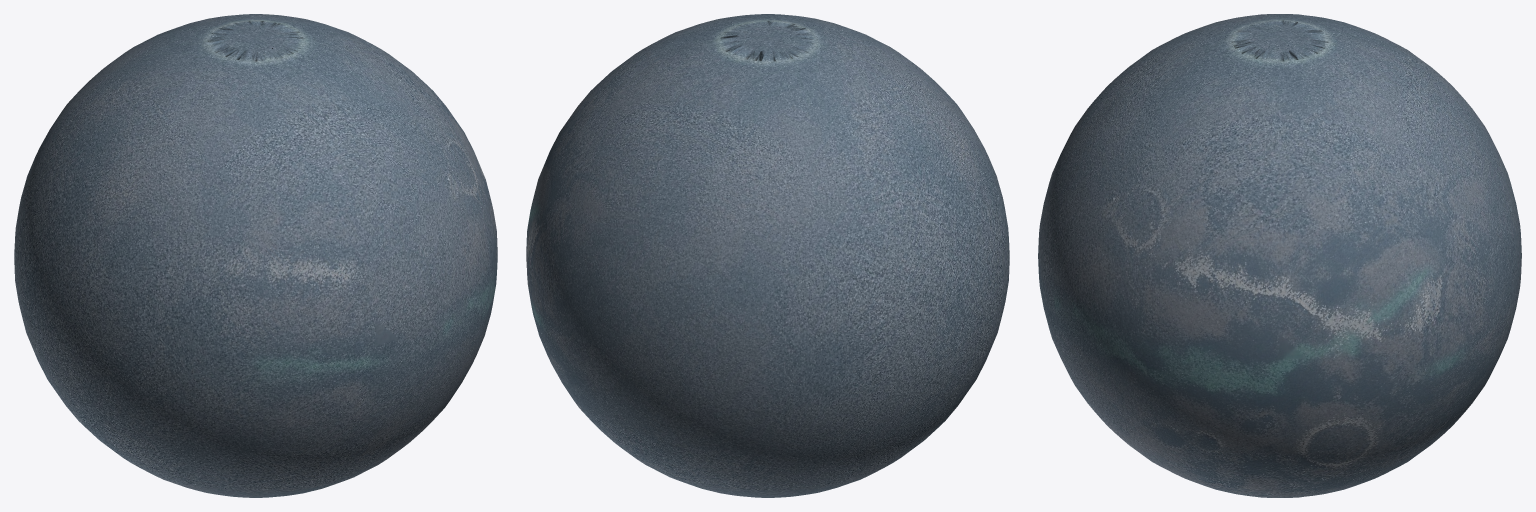
The model's file is tripo_convert_918519de-629b-4121-9857-b0e5ad5945ec.fbx.
The picture shows the model from 3 angles, left to right: view 1: azimuth 30°, elevation 25°; view 2: azimuth 150°, elevation 25°; view 3: azimuth 270°, elevation 25°; orthographic projection.
Visible parts, largest first — view 1: tripo_node_918519de; view 2: tripo_node_918519de; view 3: tripo_node_918519de.
Boxes of the visible parts, x1,y1,x2,y2 form: tripo_node_918519de: (14, 14, 497, 497); tripo_node_918519de: (526, 14, 1009, 497); tripo_node_918519de: (1038, 14, 1521, 497).
Size of the model in its own units: 0.998 by 0.998 by 0.998.
1 material, 1 textured.
